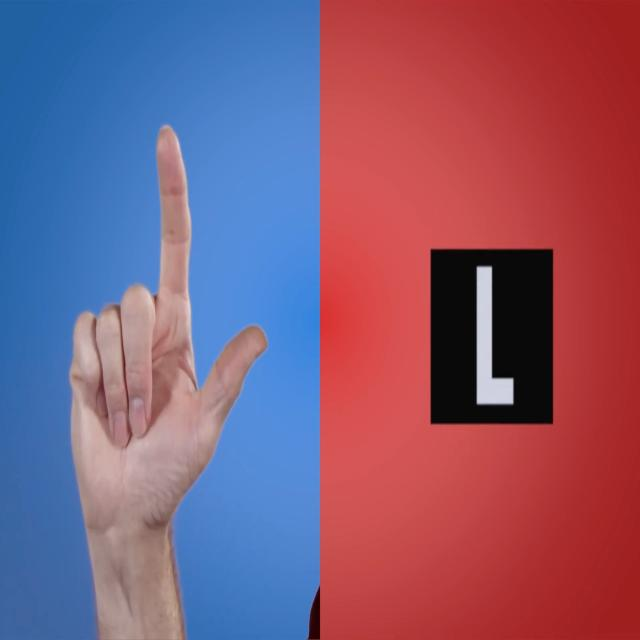L: (57, 71, 279, 640)
